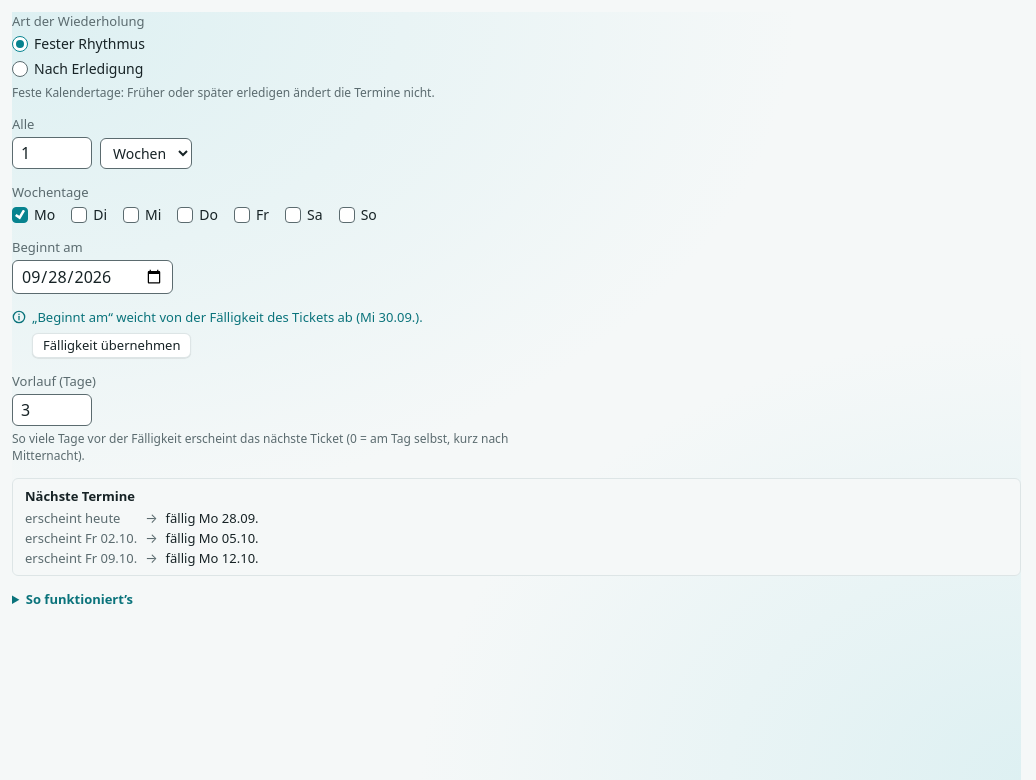
it: RecurrenceForm: preview from the due date of the ticket (RV-1) › offers "Fälligkeit übernehmen" when the due date changes, and takes it only on the click
The width and height of the screenshot is (1036, 780).
Click the button "Fälligkeit übernehmen". click: (112, 345)
box: top-left (32, 333), bottom-right (192, 358)
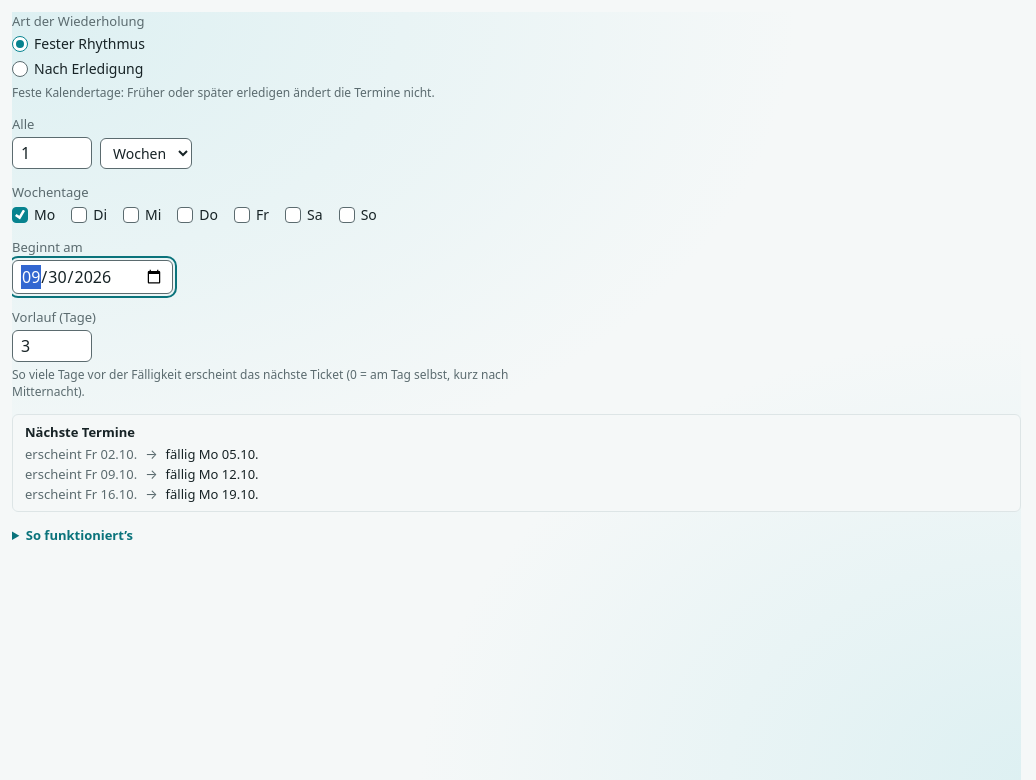
Result: the date field labelled "Beginnt am" holds "2026-09-30" at top-left (12, 260), bottom-right (173, 294)
Result: the button "Fälligkeit übernehmen" is gone
